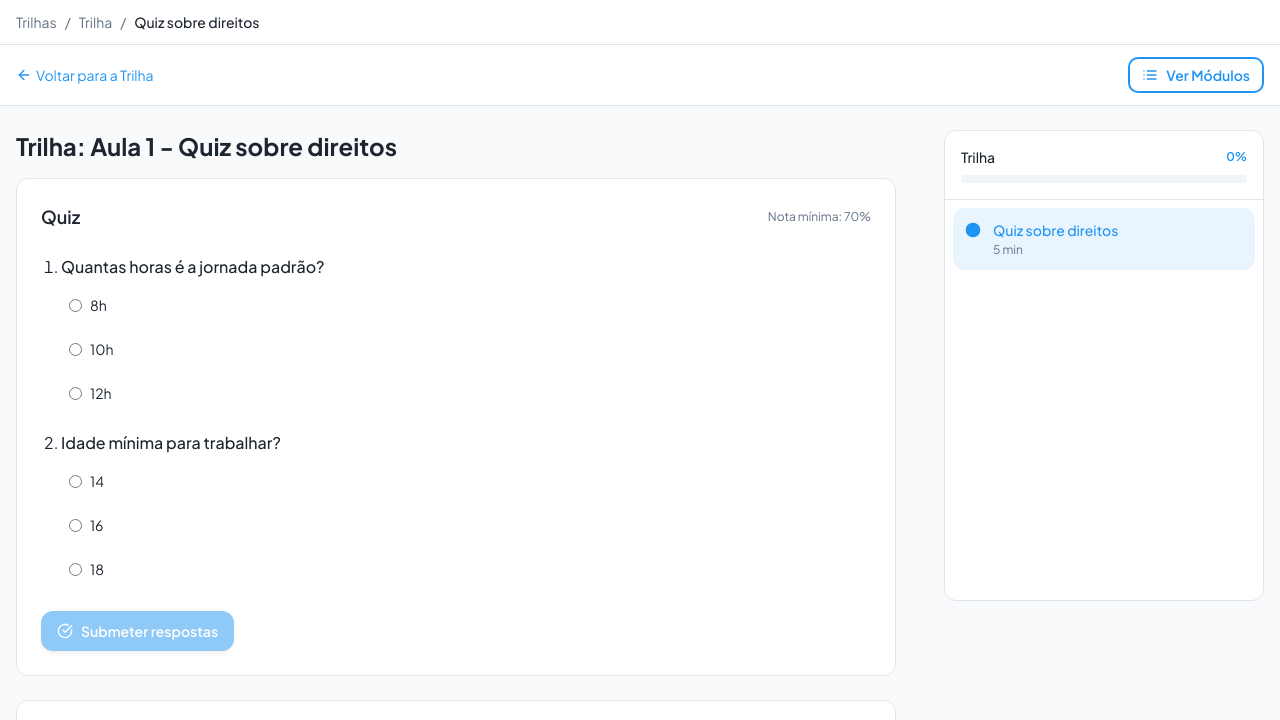
Test: ModuleViewerPage — quiz viewer › passa o quiz com 100% e marca módulo como concluído (incrementTrailProgress)
Expected: the element with test id "quiz-viewer-block" is shown, [16,178,896,676]
Click the radio button labelled "8h".
click(76, 305)  # box [69,298,82,312]
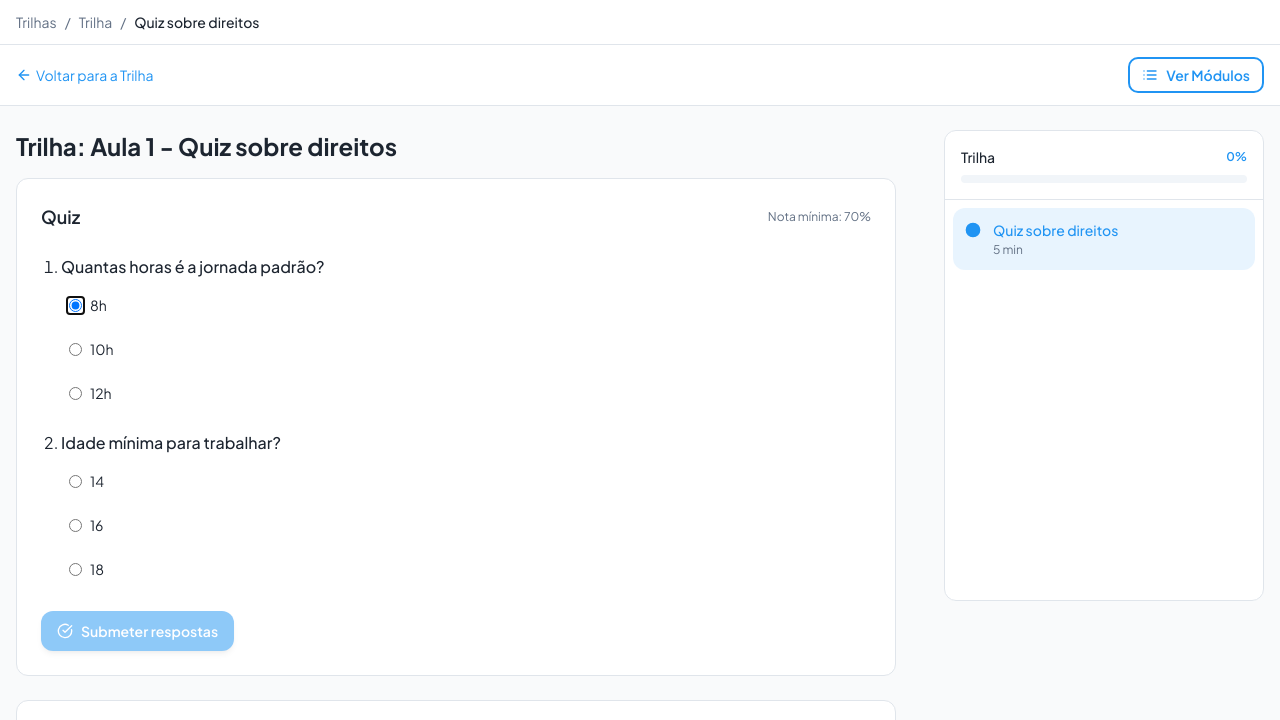
Click the radio button labelled "16".
click(76, 525)  # box [69,518,82,532]
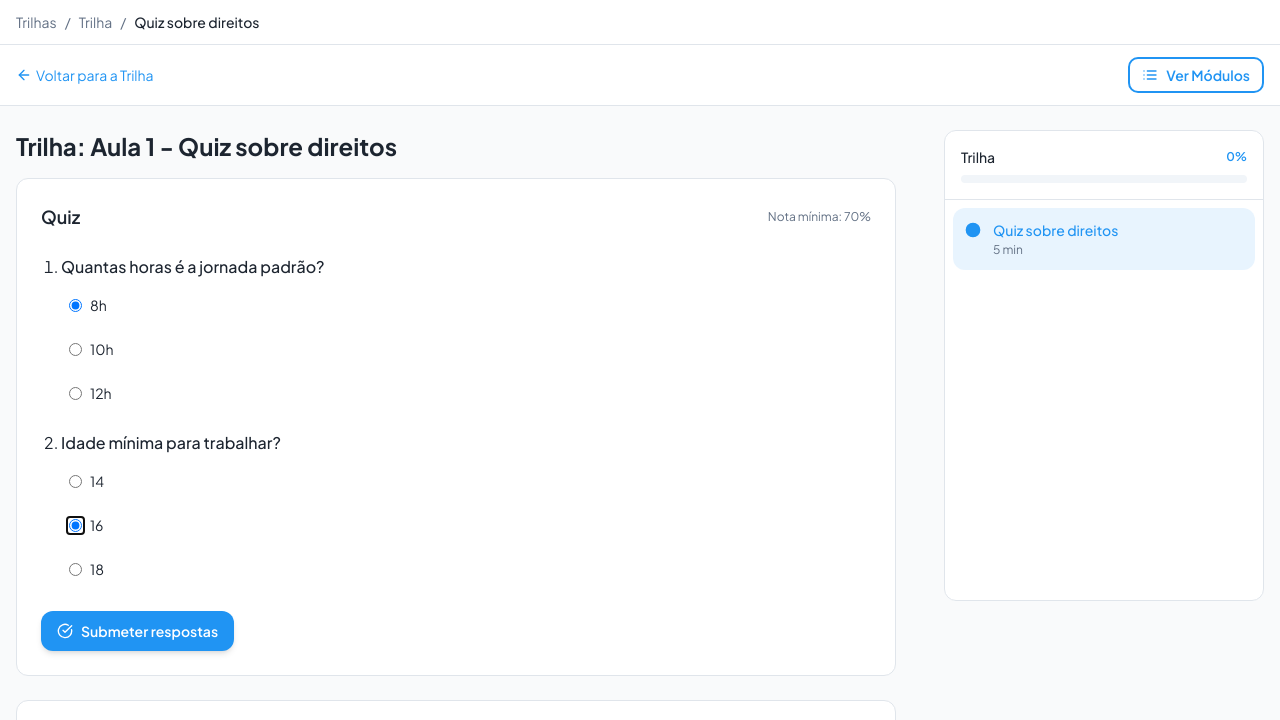
Expected: the button "Submeter respostas" is enabled
Click the button "Submeter respostas".
click(138, 631)  # box [41,611,234,651]
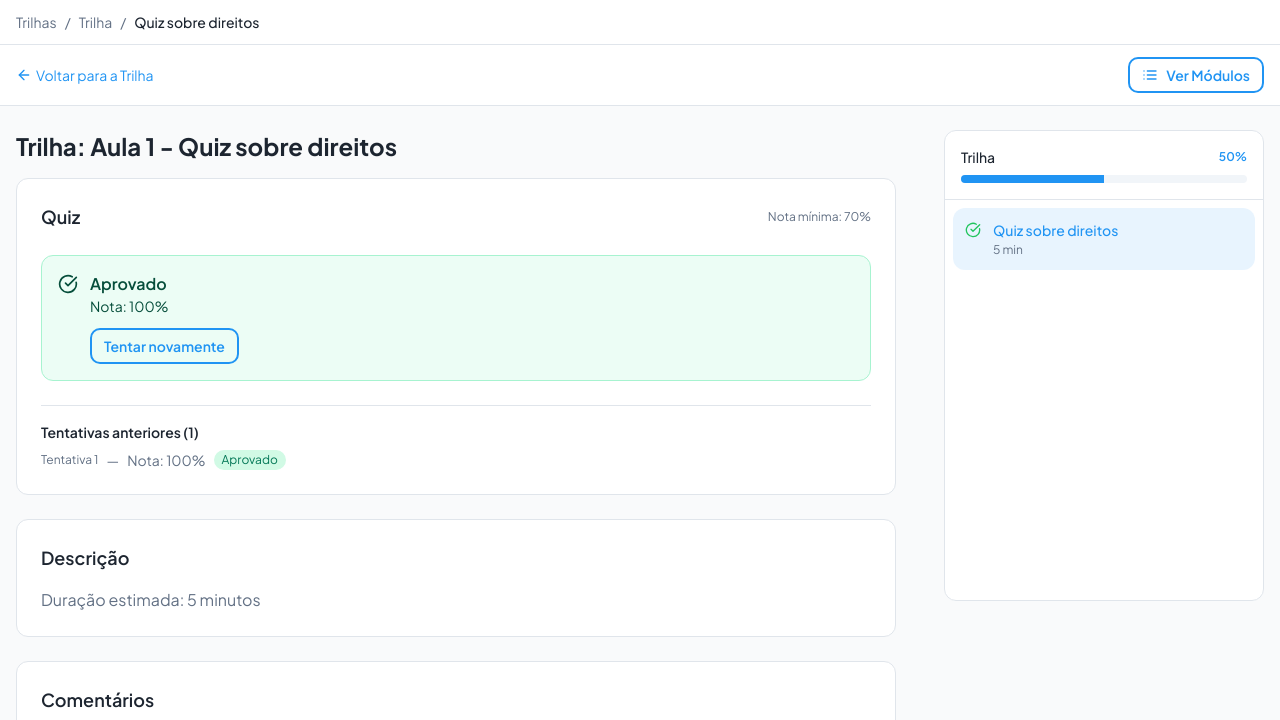
Expected: the message shows "Aprovado", [90,273,167,294]
Expected: the message shows "100%", [90,297,168,315]
